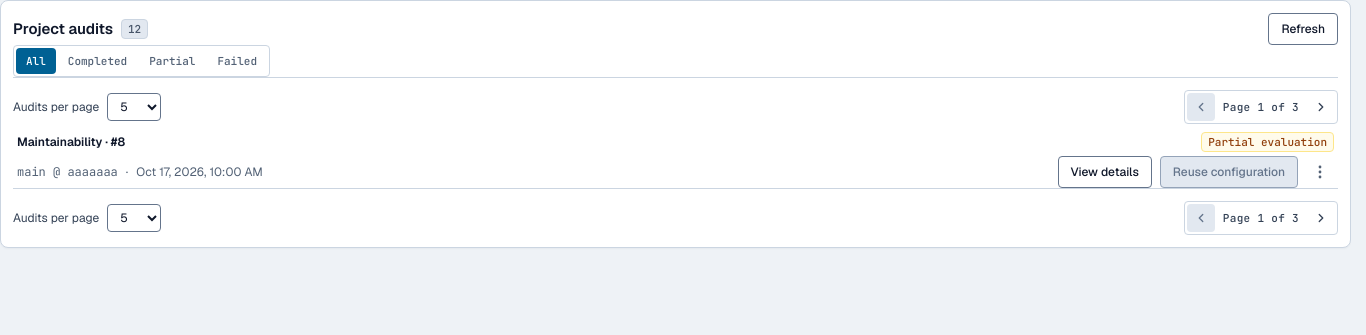
project quality audits › loads only one summary page without fetching audit details or the agent catalog
The width and height of the screenshot is (1366, 335).
Expected: the element that starts with "Maintainability" is shown, [13,124,1338,188]
Expected: the button "View Blackboard" is not shown
Click the button named "More actions for audit". click: [1320, 172]
box: [1306,158,1334,186]
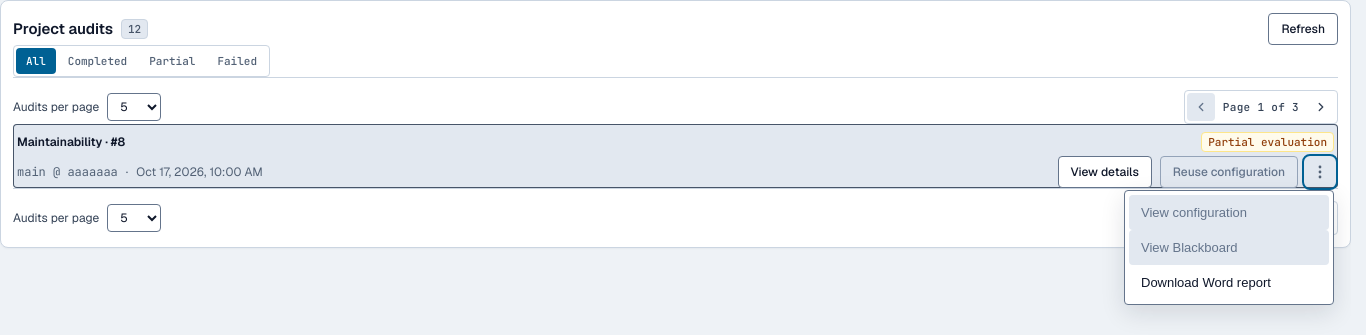
Expected: the button "View Blackboard" is disabled, [1129,230,1329,265]
Click the button named "Next page". click: [1321, 107]
box: [1307,93,1335,121]
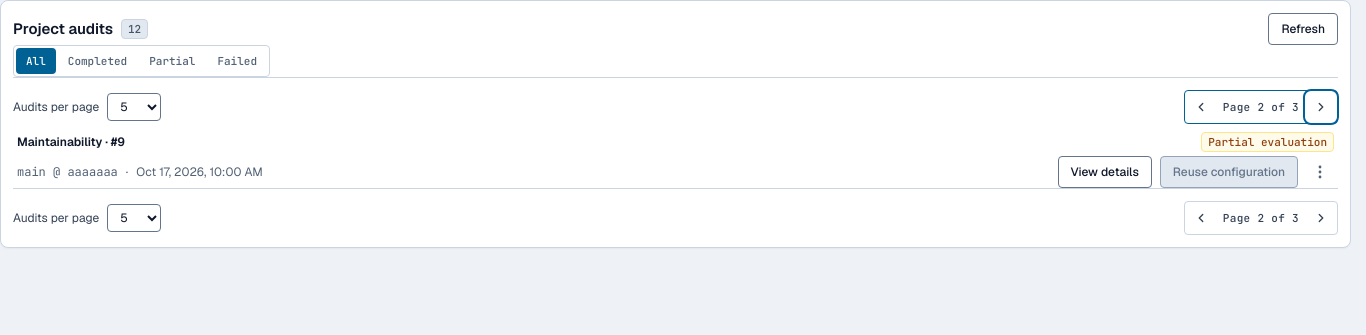
Expected: the element that starts with "Maintainability" shows "#9", [13,124,1338,188]
